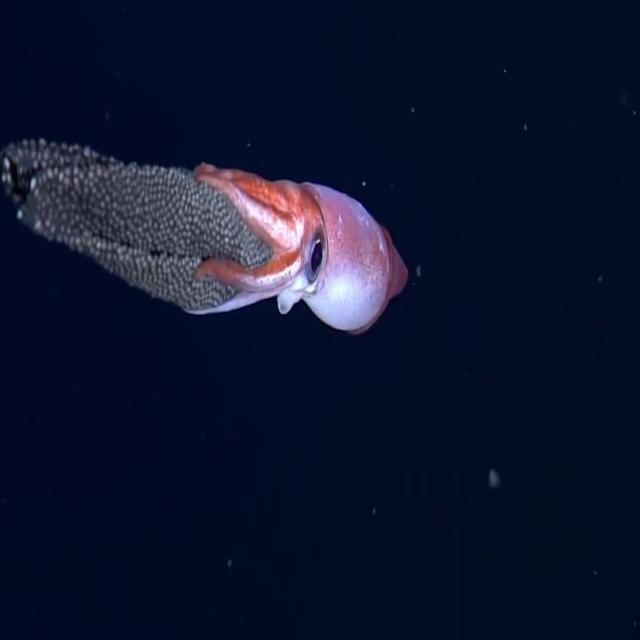SQUID: (0, 106, 426, 357)
